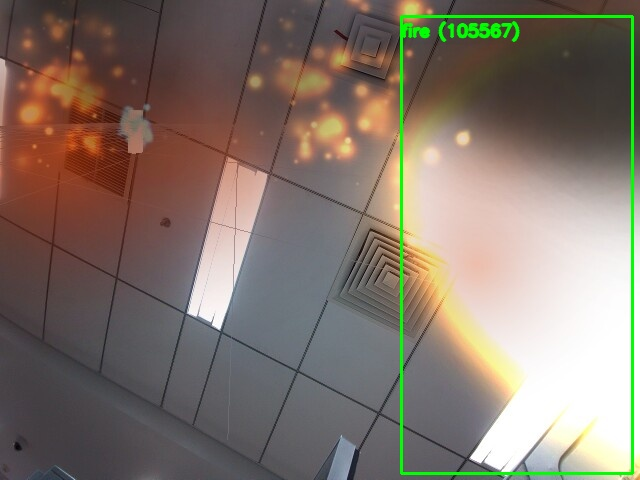fire: (401, 16, 632, 473)
